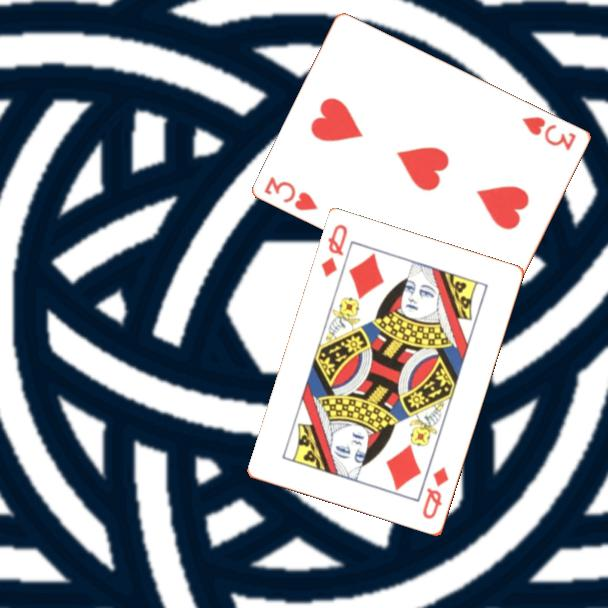d12: (318, 221, 351, 281), (419, 464, 452, 523)
h03: (261, 172, 321, 214), (518, 113, 579, 153)
